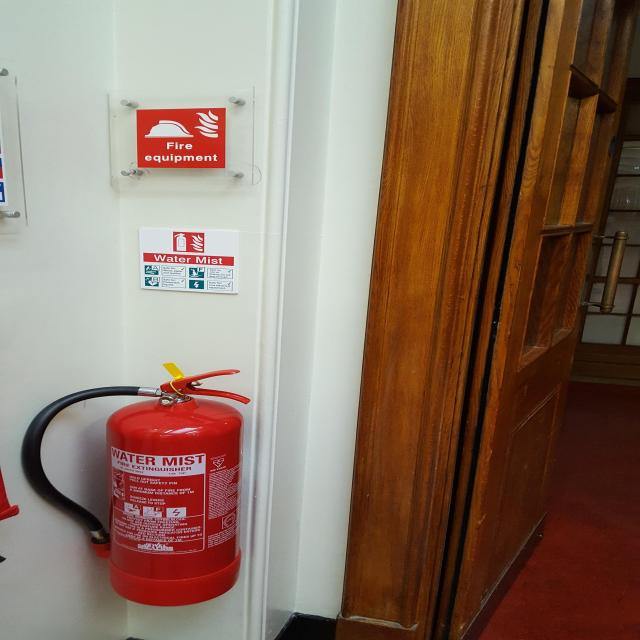fire_extinguisher: (12, 368, 258, 609)
